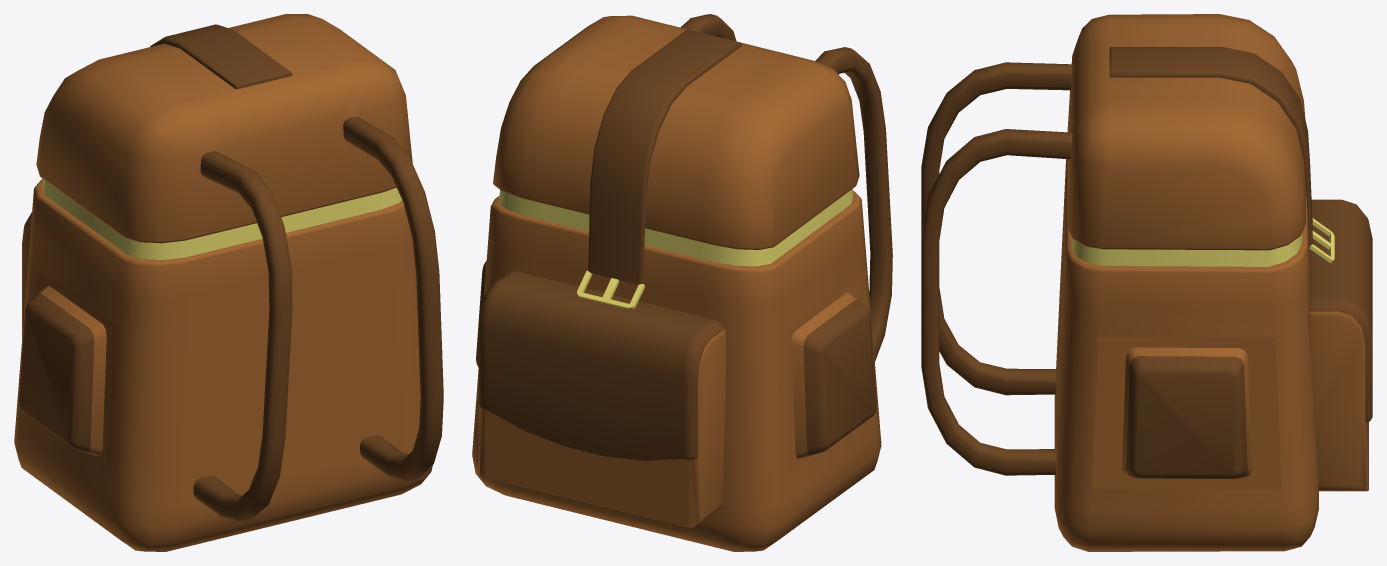
Rendered from Bag.fbx.
3 renders of one model, left to right at view 1: azimuth 30°, elevation 25°; view 2: azimuth 150°, elevation 25°; view 3: azimuth 270°, elevation 25°, orthographic. The views are drawn at different scales.
Parts seen in each view (by area): view 1: Plane.001; view 2: Plane.001; view 3: Plane.001.
Part boxes in pixels (x1=…): Plane.001: x1=14, y1=14, x2=443, y2=551; Plane.001: x1=472, y1=14, x2=892, y2=551; Plane.001: x1=921, y1=14, x2=1372, y2=551.
Size of the model in its own units: 276 by 319 by 303.
